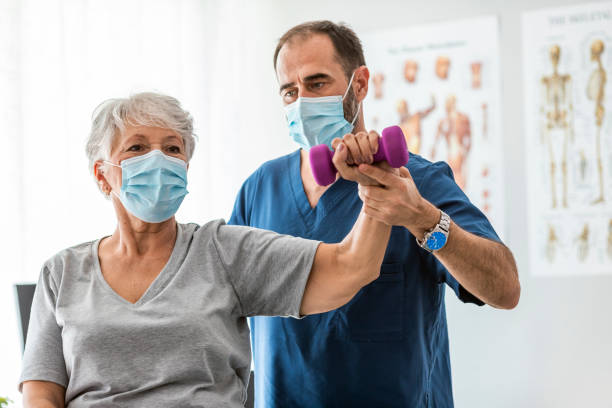with mask: (89, 106, 199, 226), (258, 32, 368, 152)
